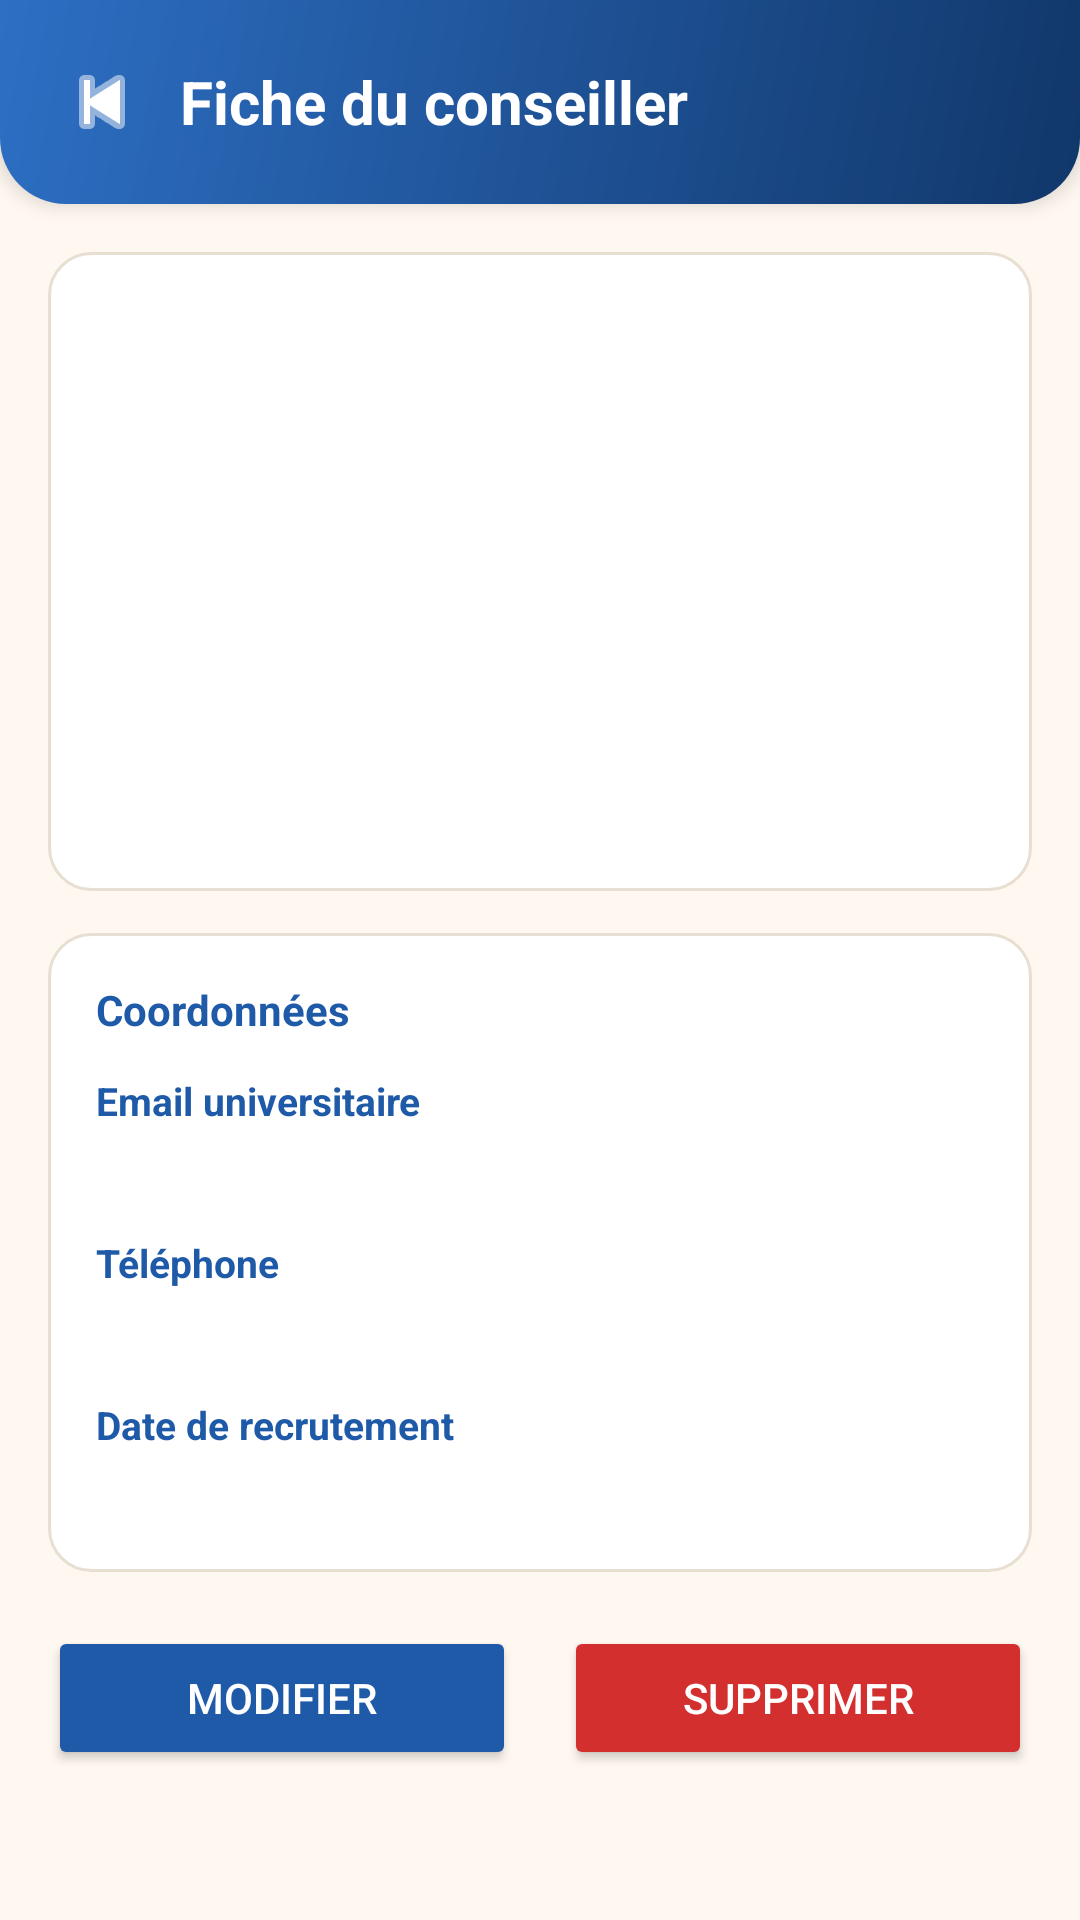

Where icons sit on this 1080 x 1920 app screen, as (x1, y1, x2, y2):
Retour: (79, 75, 125, 129)
